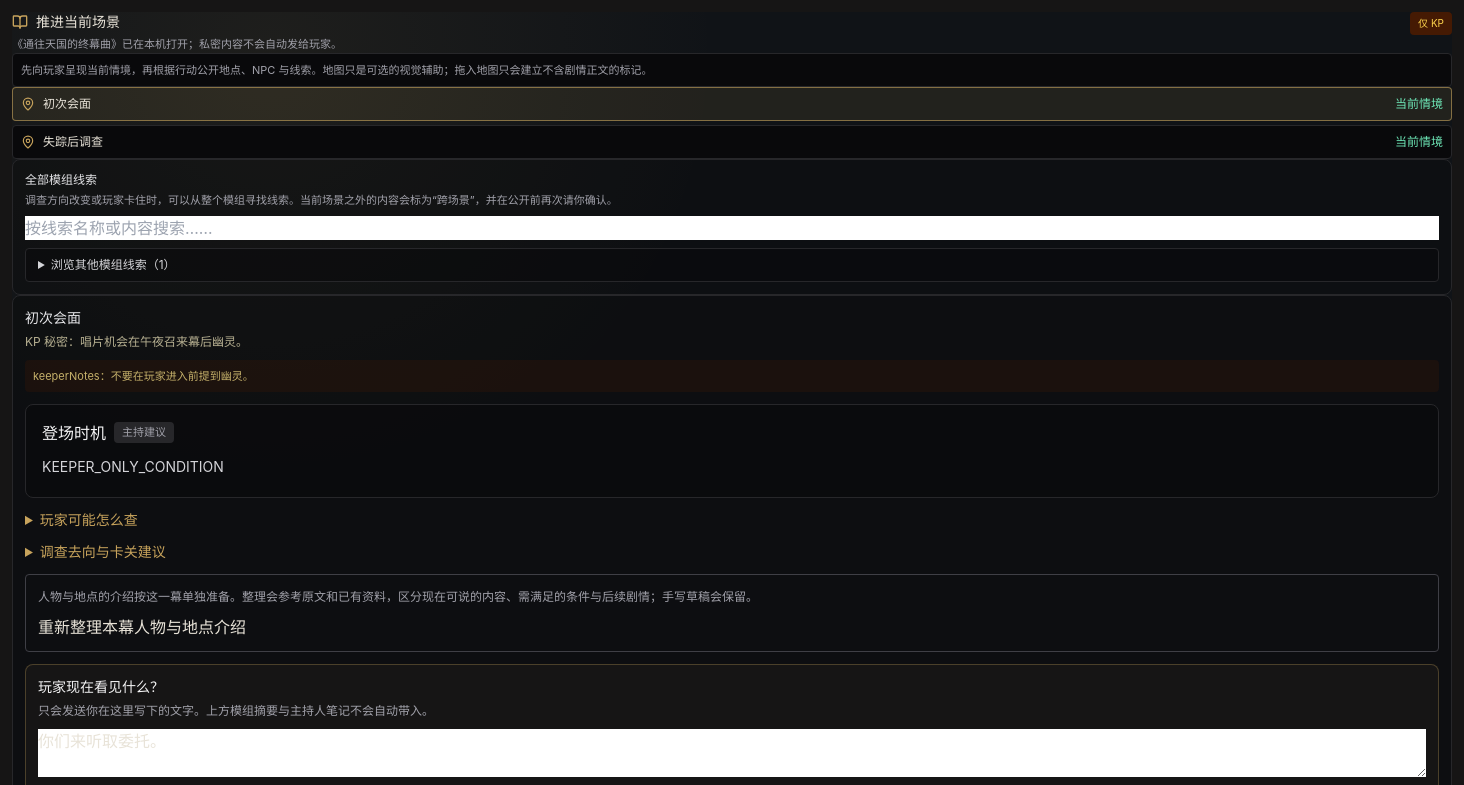
Test: keeps unpublished opening drafts per scene across browsing and navigation, including an intentionally empty draft
Later steps or results of the test are not shown.
Replace the text in the text box named "玩家可见的开场描述" with "KP 临场改写：侍女领你们进了会客室。": (732, 752) [38,728,1426,776]
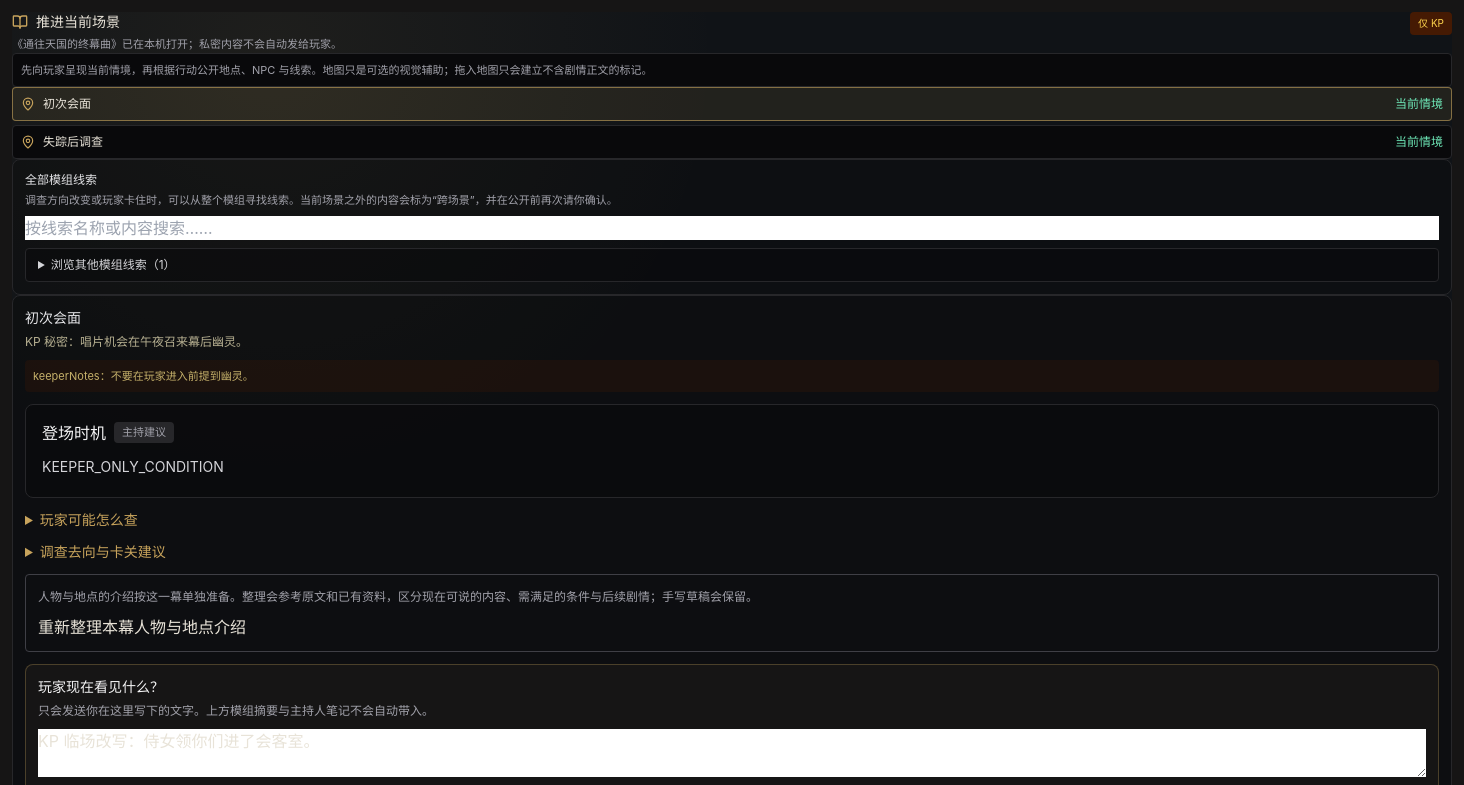
Click the button with aria-label "模组场景：失踪后调查": (73, 141) [12,124,1452,158]
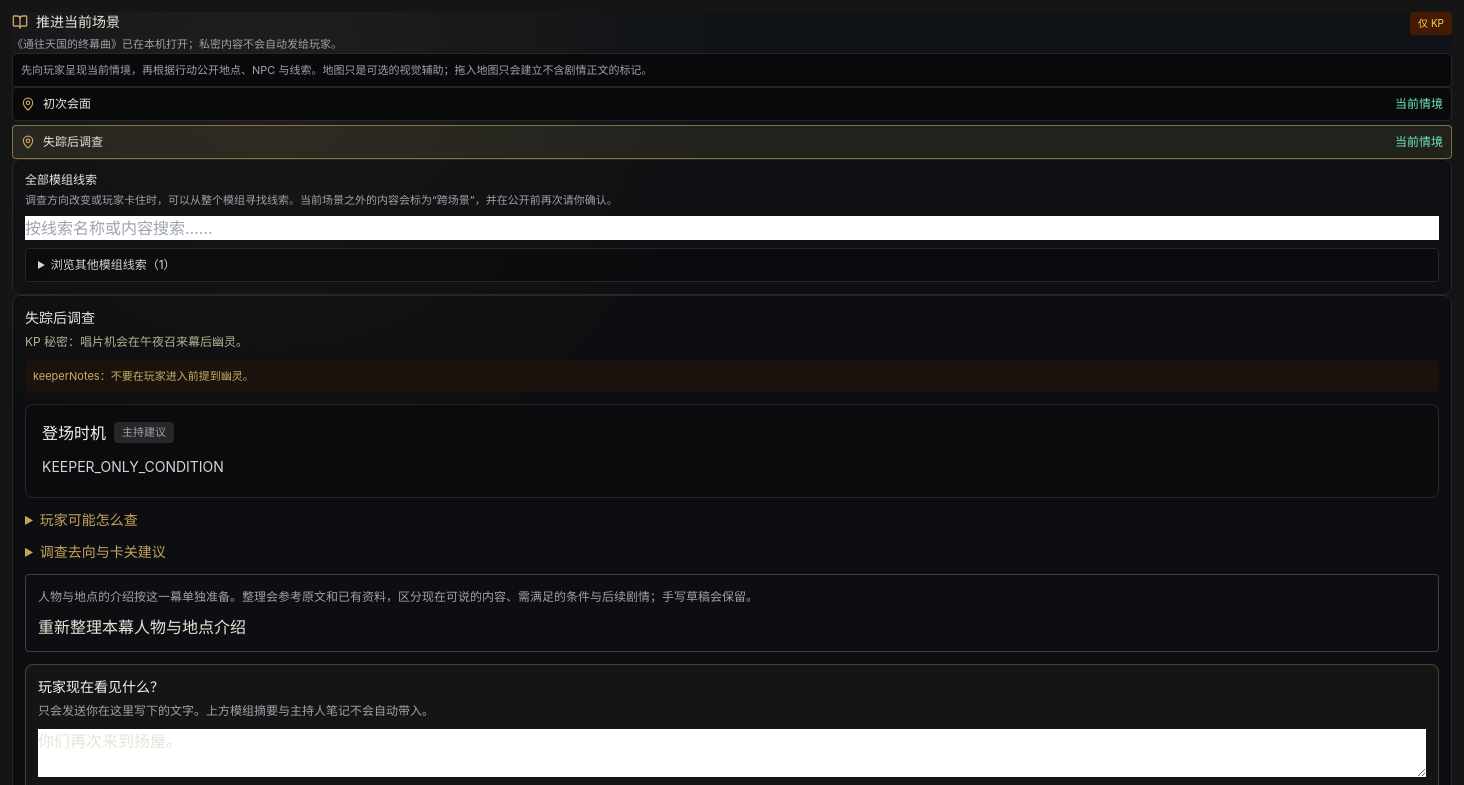
Expected: the text box named "玩家可见的开场描述" holds "你们再次来到扬屋。", [38,728,1426,776]
